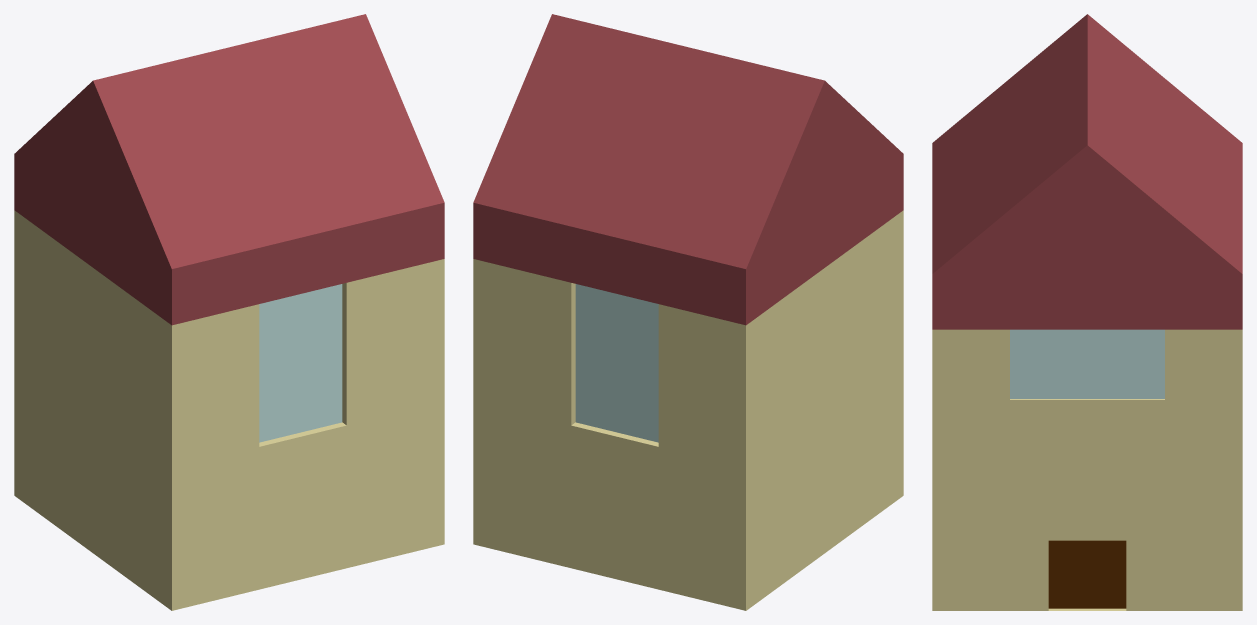
File: Casa.fbx
3 views of the same model, side by side, from view 1: azimuth 30°, elevation 25°; view 2: azimuth 150°, elevation 25°; view 3: azimuth 270°, elevation 25° (orthographic).
Visible parts, largest first — view 1: Cube, Cube.003, Cube.002; view 2: Cube, Cube.003, Cube.002; view 3: Cube.003, Cube, Cube.002, Cube.001.
Part boxes in pixels (left/top/right/bottom): Cube: left=14, top=210, right=444, bottom=610; Cube.003: left=14, top=14, right=444, bottom=325; Cube.002: left=259, top=284, right=342, bottom=442; Cube: left=473, top=210, right=903, bottom=610; Cube.003: left=473, top=14, right=903, bottom=325; Cube.002: left=575, top=284, right=658, bottom=442; Cube.003: left=932, top=14, right=1242, bottom=329; Cube: left=932, top=329, right=1242, bottom=610; Cube.002: left=1010, top=329, right=1164, bottom=398; Cube.001: left=1048, top=540, right=1126, bottom=608.
Size of the model in its own units: 736 by 1219 by 736.
